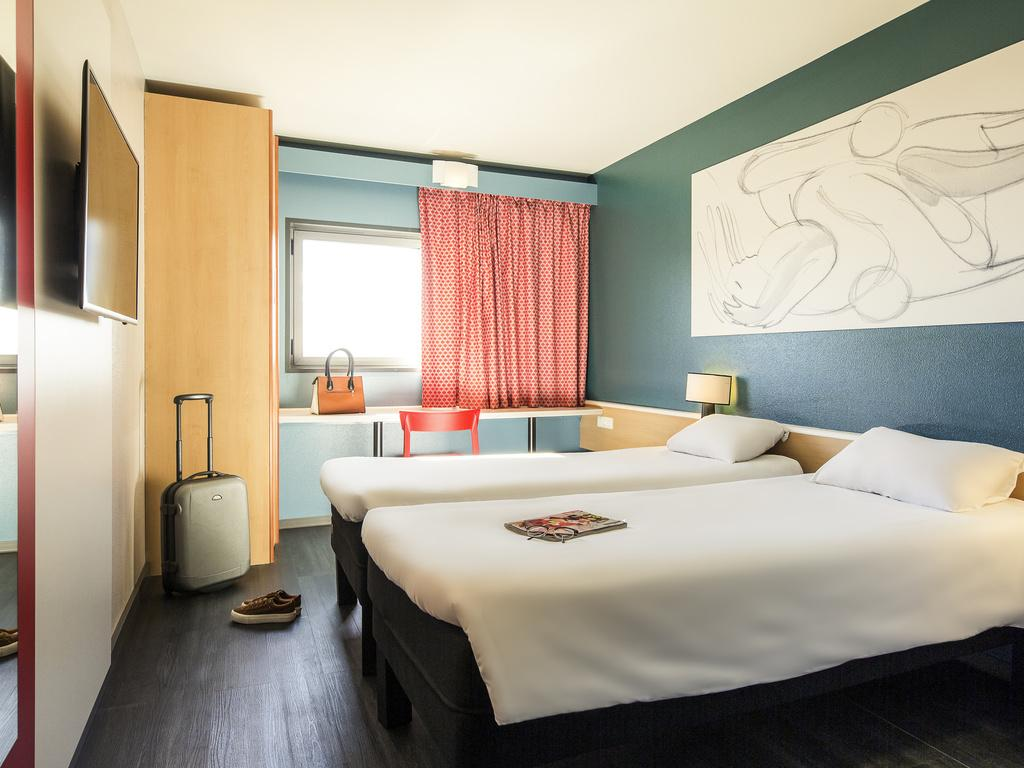bed: (448, 485, 1024, 672)
